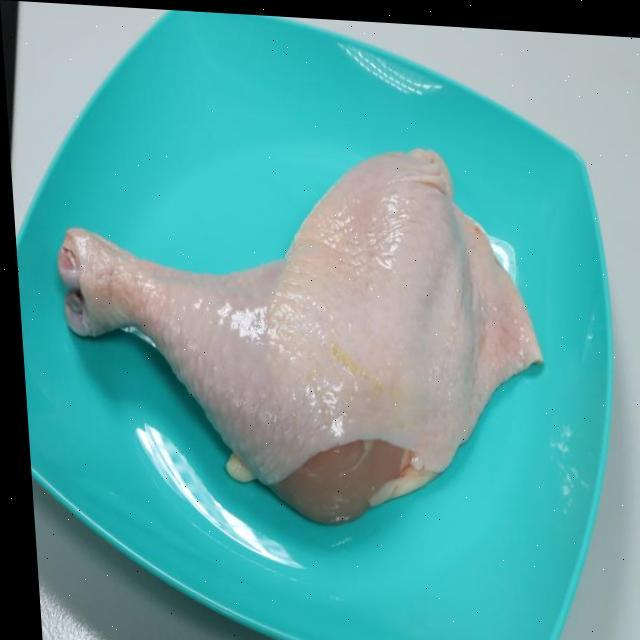quater: (53, 131, 522, 514)
